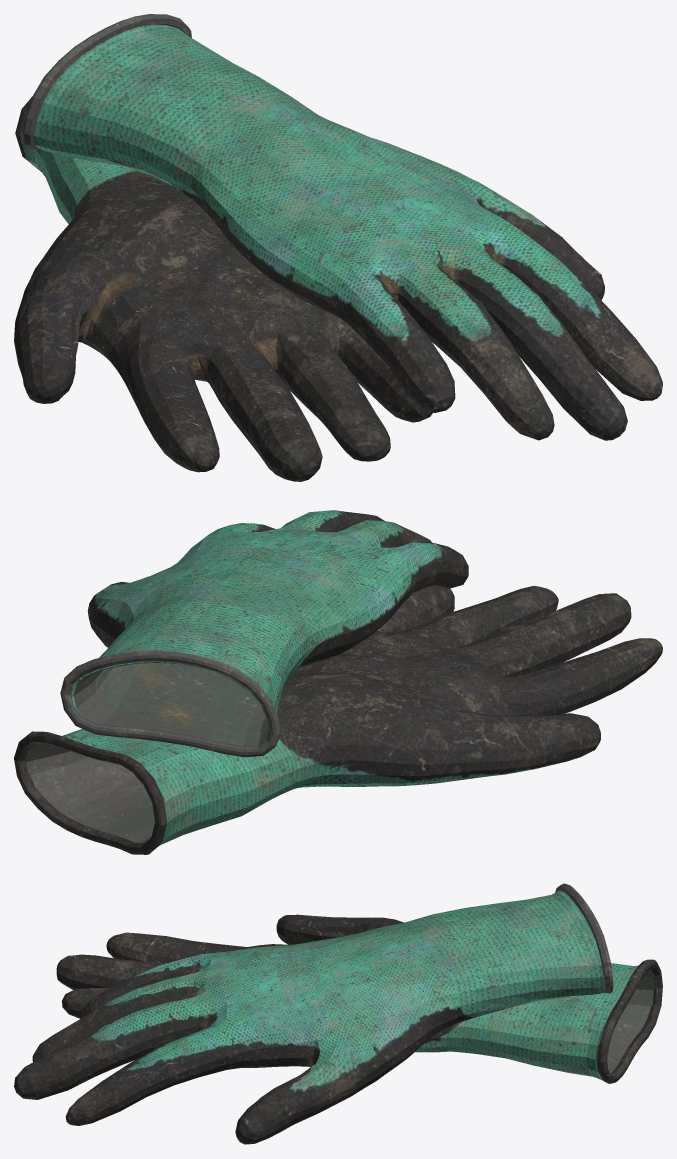
File: WorkGloves.obj
3 renders of one model, top to bottom at view 1: azimuth 30°, elevation 25°; view 2: azimuth 150°, elevation 25°; view 3: azimuth 270°, elevation 25°, orthographic. The views are drawn at different scales.
Visible parts, largest first — view 1: mesh_002; view 2: mesh_002; view 3: mesh_002.
Boxes of the visible parts, box(x1,y1,x2,y2) form: mesh_002: box(14, 14, 662, 481); mesh_002: box(14, 510, 662, 854); mesh_002: box(14, 883, 662, 1144).
Bounding box in the file's own units: 0.2266 × 0.076 × 0.299.
1 material, 1 textured.
